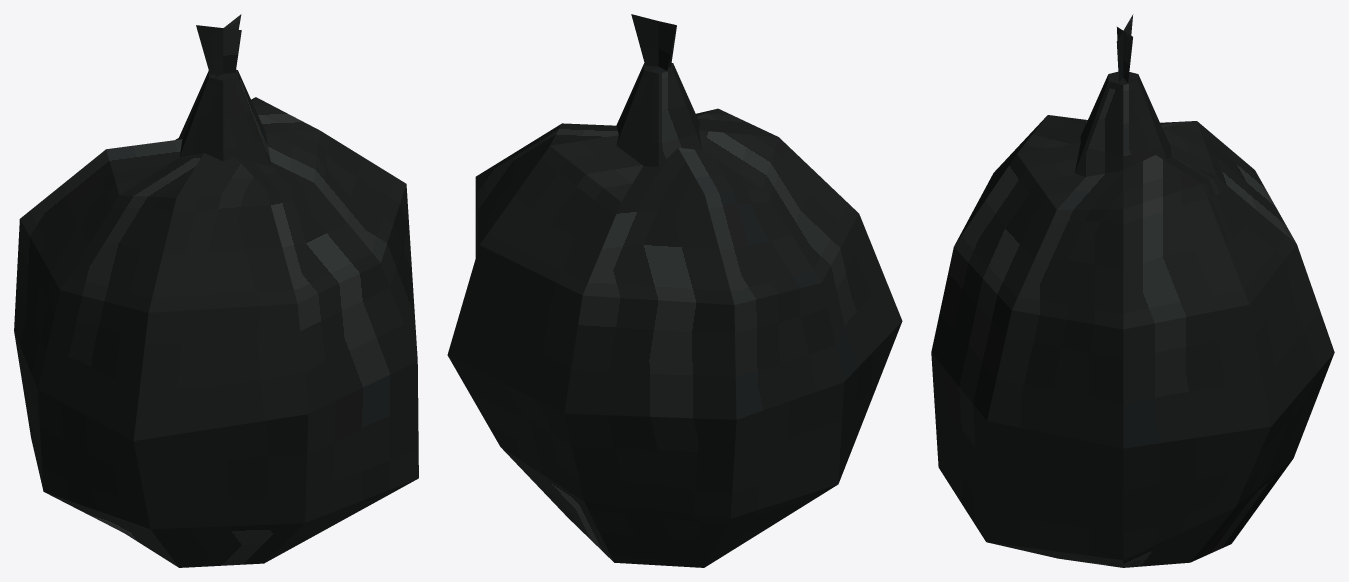
Rendered from trash_bag.glb.
The picture shows the model from 3 angles, left to right: view 1: azimuth 30°, elevation 25°; view 2: azimuth 150°, elevation 25°; view 3: azimuth 270°, elevation 25°; orthographic projection. The views are drawn at different scales.
Parts seen in each view (by area): view 1: TrashBag; view 2: TrashBag; view 3: TrashBag.
Part boxes in pixels (<box>): TrashBag: <box>14,14,418,567</box>; TrashBag: <box>447,14,902,567</box>; TrashBag: <box>931,14,1334,567</box>.
Bounding box in the file's own units: 0.4571 × 0.6 × 0.4197.
1 material, 1 textured.
